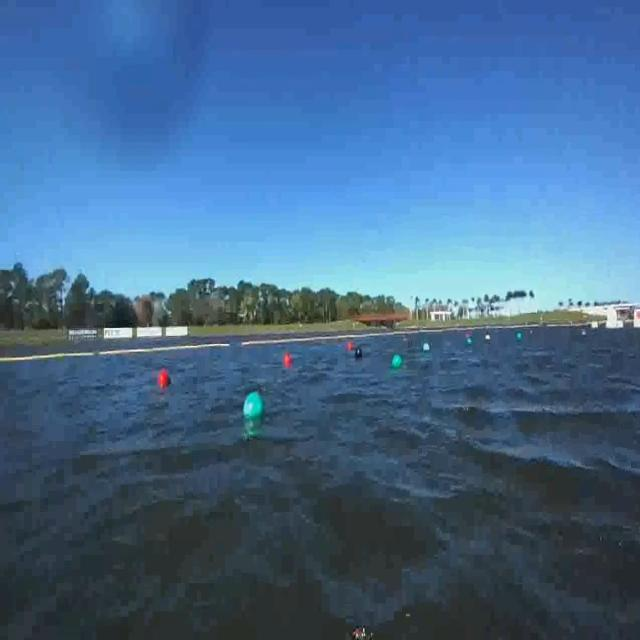black-buoy: (354, 348, 362, 360)
green-buoy: (242, 393, 262, 424), (392, 354, 403, 369)
red-buoy: (282, 351, 294, 372), (158, 368, 170, 386), (347, 342, 355, 353)
